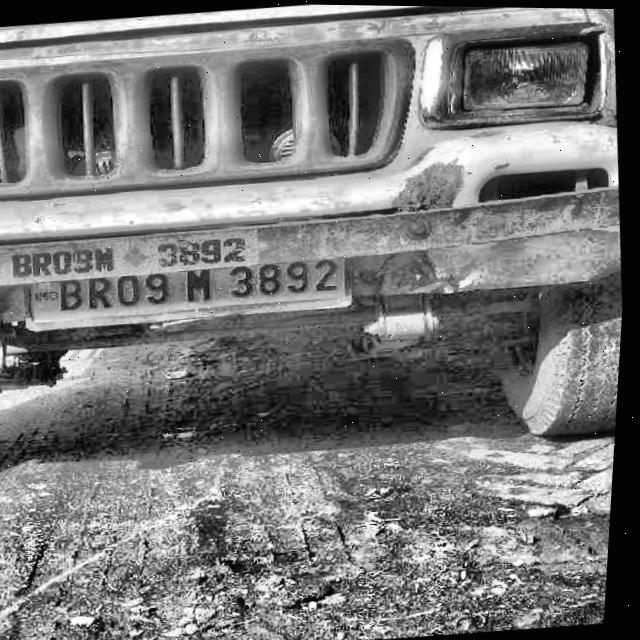light_vehicle: (0, 0, 638, 352)
